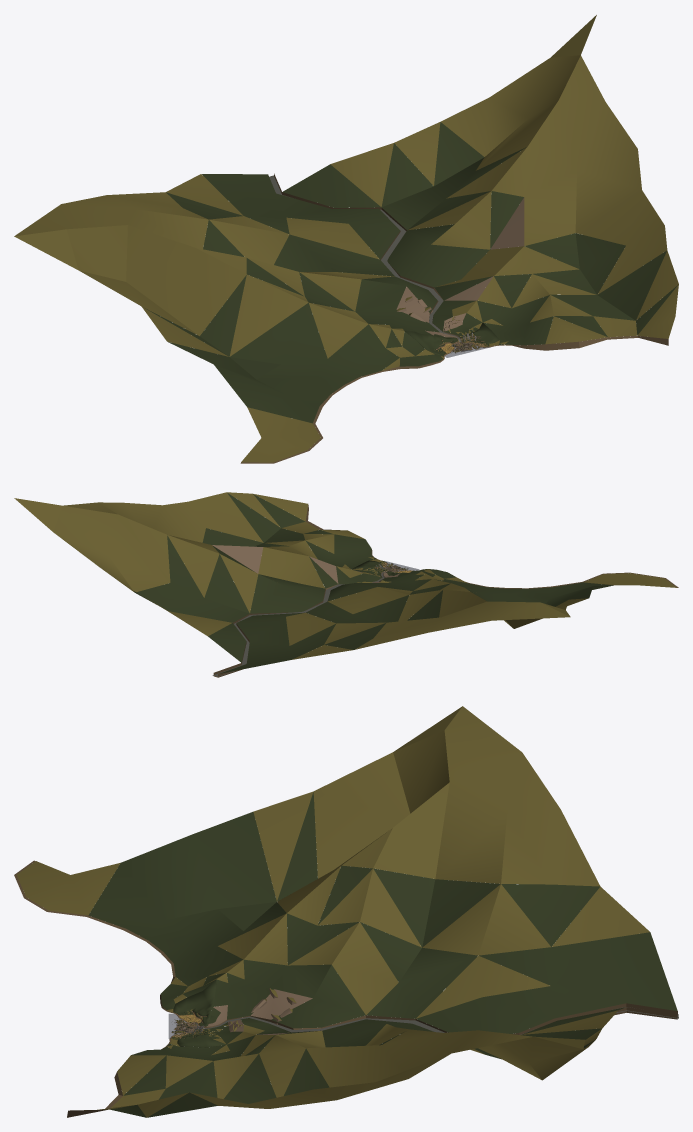
File: realm-city_20.glb
3 views of the same model, one above another, from view 1: azimuth 30°, elevation 25°; view 2: azimuth 150°, elevation 25°; view 3: azimuth 270°, elevation 25° (orthographic). The views are drawn at different scales.
Visible parts, largest first — view 1: terrain, forest, rivers; view 2: terrain, rivers; view 3: terrain, forest, rivers.
Part boxes in pixels (x1,y1,x2,y2): terrain: (14, 15, 678, 463); forest: (405, 322, 499, 356); rivers: (269, 175, 461, 347); terrain: (14, 492, 678, 677); rivers: (212, 570, 398, 676); terrain: (14, 706, 677, 1117); forest: (171, 979, 226, 1047); rivers: (191, 1007, 678, 1034).
Size of what is drawn, in the model's own units: 18131 by 3765 by 13806.
Materials: 29 (1 with a texture image).
